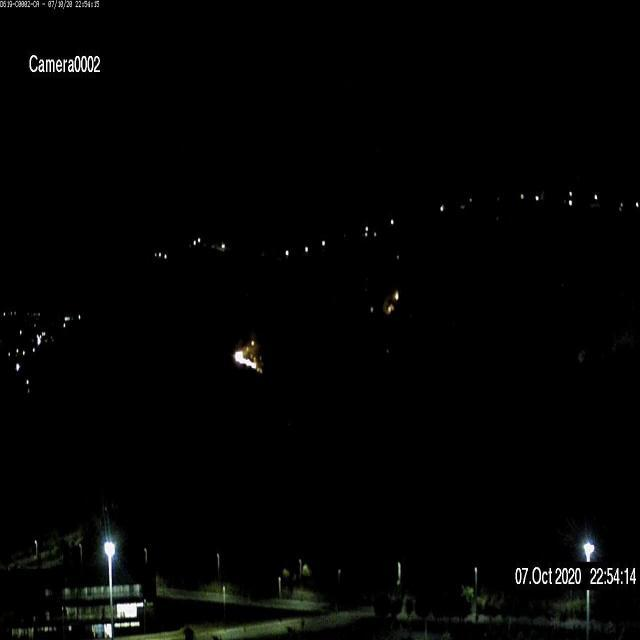Fire: (233, 335, 263, 373)
Smoke: (242, 332, 262, 362)
